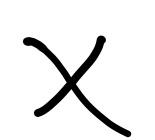mult: (22, 35, 130, 137)
